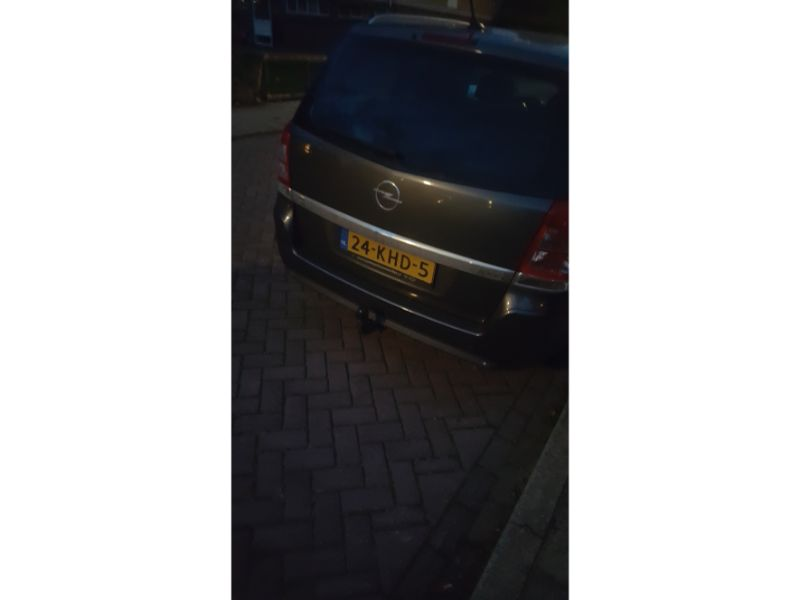kenteken: (337, 225, 440, 298)
